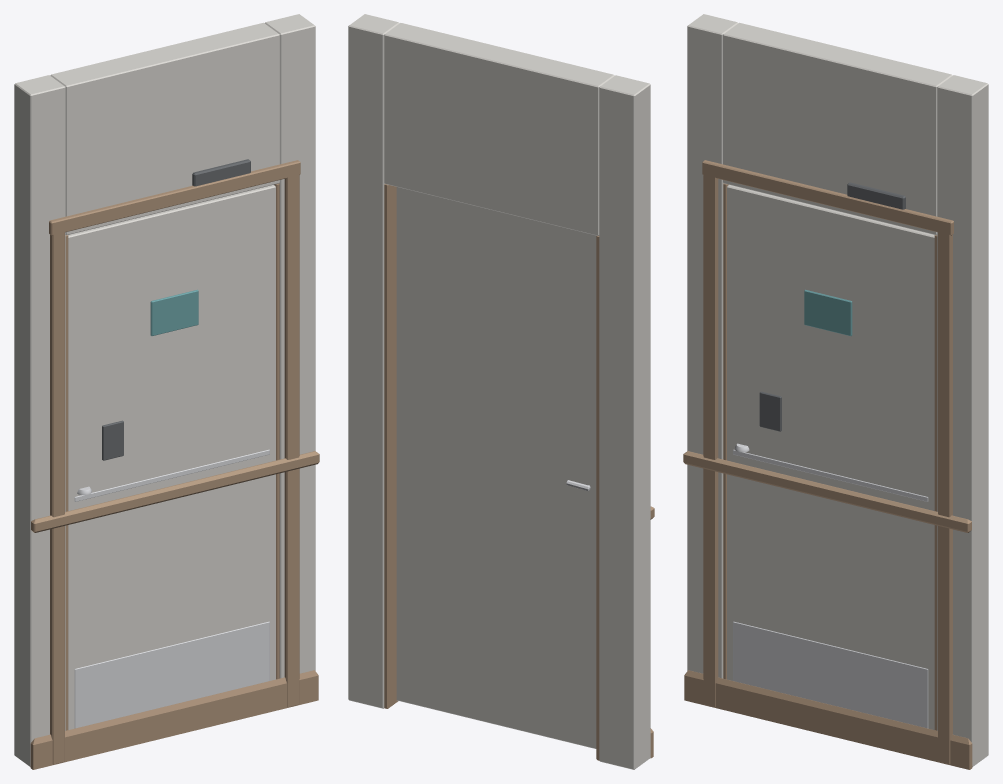
Rendered from hotel-and-resort-operations-corridor-service-door-modu-655c57c4__25825.glb.
The picture shows the model from 3 angles, left to right: view 1: azimuth 30°, elevation 25°; view 2: azimuth 150°, elevation 25°; view 3: azimuth 330°, elevation 25°; orthographic projection.
Parts seen in each view (by area): view 1: corridor-service-door-module, door-service/carcass, door-service/metal, door-service/dark; view 2: corridor-service-door-module, door-service/carcass; view 3: corridor-service-door-module, door-service/carcass, door-service/metal, door-service/dark.
Part boxes in pixels (x1=…): corridor-service-door-module: x1=14, y1=14, x2=319, y2=769; door-service/carcass: x1=68, y1=185, x2=275, y2=729; door-service/metal: x1=74, y1=449, x2=269, y2=728; door-service/dark: x1=102, y1=420, x2=123, y2=460; corridor-service-door-module: x1=348, y1=14, x2=654, y2=769; door-service/carcass: x1=396, y1=187, x2=596, y2=748; corridor-service-door-module: x1=683, y1=14, x2=988, y2=769; door-service/carcass: x1=727, y1=185, x2=934, y2=729; door-service/metal: x1=733, y1=443, x2=928, y2=728; door-service/dark: x1=759, y1=391, x2=781, y2=431.
Bounding box in the file's own units: 1.2 × 2.7 × 0.1479.
